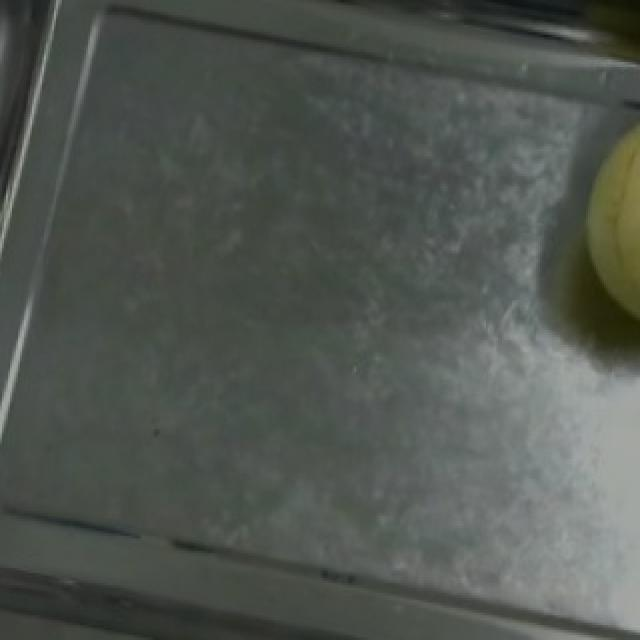Fruit: (556, 92, 640, 350)
